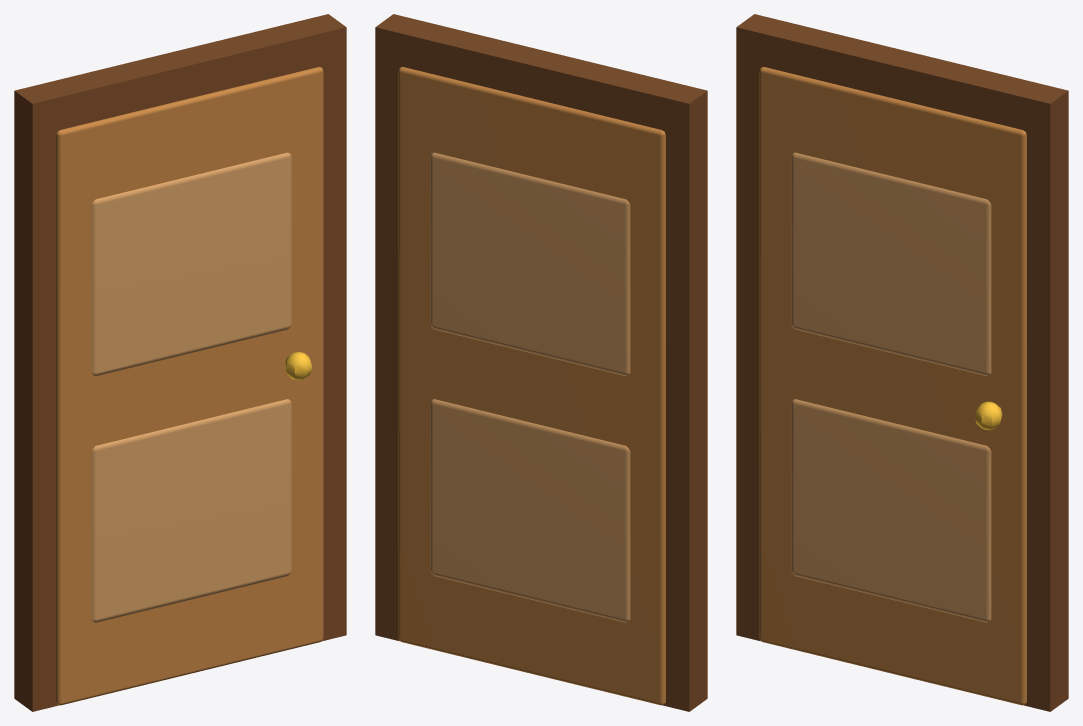
File: Door.fbx
3 renders of one model, left to right at view 1: azimuth 30°, elevation 25°; view 2: azimuth 150°, elevation 25°; view 3: azimuth 330°, elevation 25°, orthographic.
Parts seen in each view (by area): view 1: Door; view 2: Door; view 3: Door.
Part boxes in pixels (x1,y1,x2,y2): Door: [14, 14, 346, 711]; Door: [375, 14, 707, 711]; Door: [736, 14, 1068, 711].
Size of the model in its own units: 4 by 7.4 by 0.785.
1 material, 1 textured.
